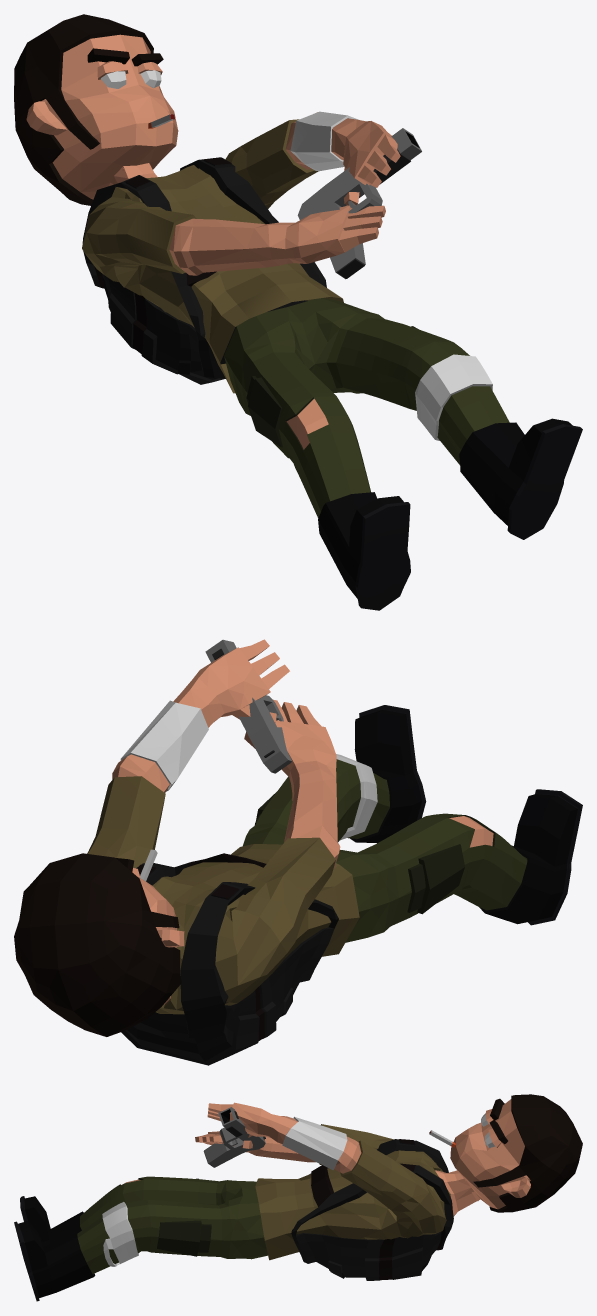
Rendered from frame_0119.obj.
3 views of the same model, one above another, from view 1: azimuth 30°, elevation 25°; view 2: azimuth 150°, elevation 25°; view 3: azimuth 270°, elevation 25° (orthographic). The views are drawn at different scales.
Parts seen in each view (by area): view 1: Body, Gun; view 2: Body, Gun; view 3: Body, Gun.
Boxes of the visible parts, x1=… form: Body: x1=14, y1=14, x2=582, y2=610; Gun: x1=297, y1=128, x2=421, y2=279; Body: x1=14, y1=639, x2=582, y2=1065; Gun: x1=205, y1=639, x2=292, y2=773; Body: x1=14, y1=1094, x2=582, y2=1301; Gun: x1=203, y1=1107, x2=265, y2=1167.
Bounding box in the file's own units: 1.22 × 1.83 × 4.14.
